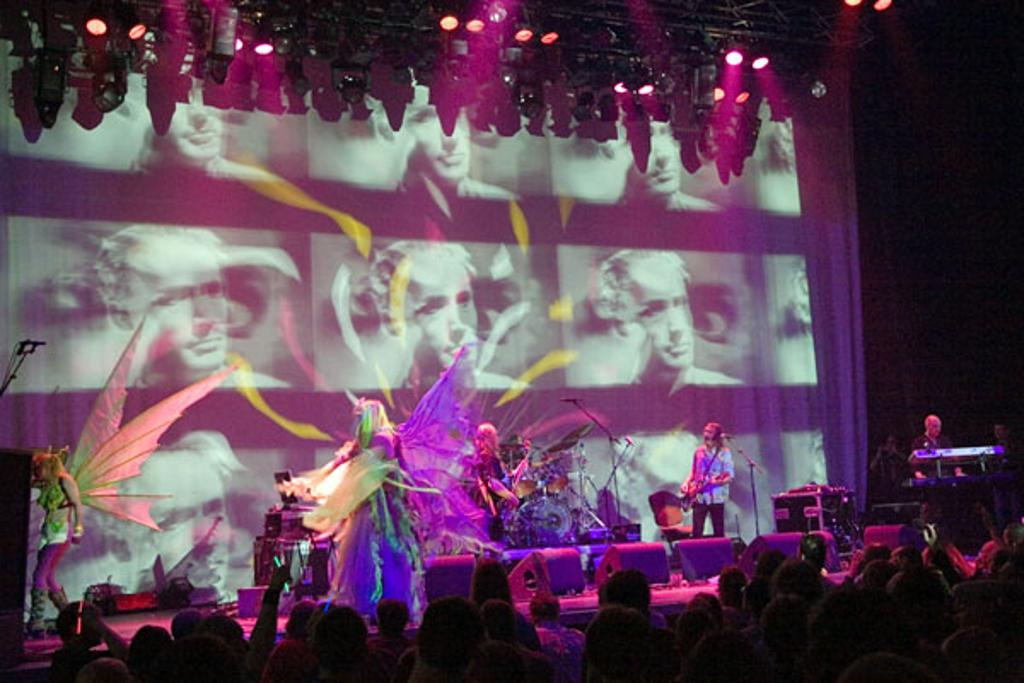face: (148, 252, 226, 362), (414, 262, 484, 366), (160, 480, 228, 580), (636, 264, 694, 366), (166, 58, 226, 152), (410, 88, 468, 182), (634, 98, 688, 192)
